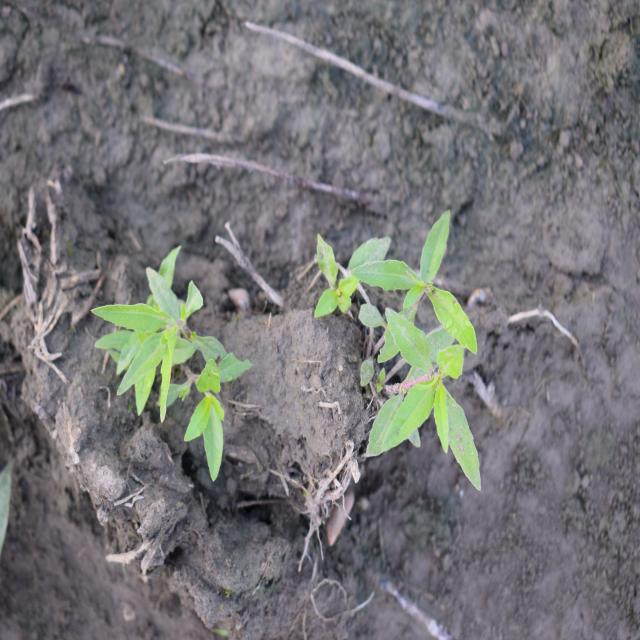Eclipta: (313, 206, 484, 496), (88, 242, 254, 482)
